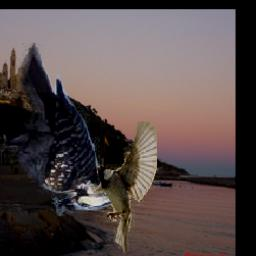Sparrow: (90, 118, 157, 254)
Woodpecker: (1, 43, 118, 216)
